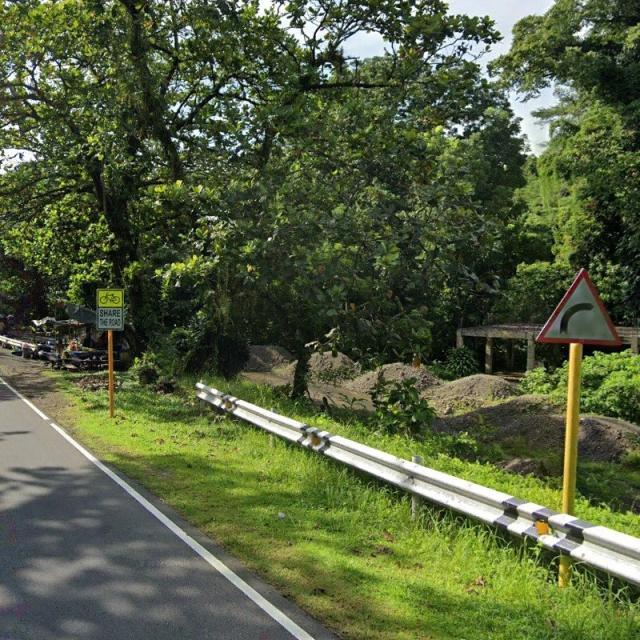warn_right_curve: (535, 270, 624, 345)
